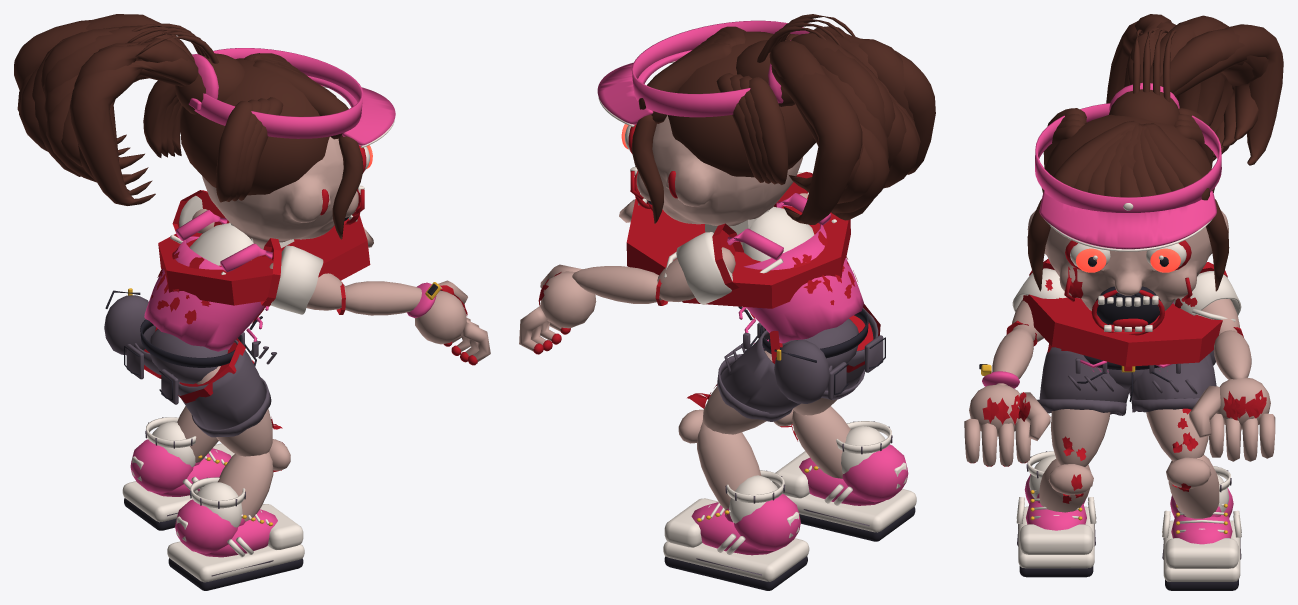
File: inf.jogger.glb
3 views of the same model, side by side, from view 1: azimuth 30°, elevation 25°; view 2: azimuth 150°, elevation 25°; view 3: azimuth 270°, elevation 25° (orthographic). The views are drawn at different scales.
Visible parts, largest first — view 1: head, footR, torso, stump_head, footL, hip, legR, armR, handR, foreArmR, shinR, shinL (+2 smaller); view 2: head, footL, footR, torso, stump_head, hip, legL, handL, shinL, armL, shinR, foreArmL (+2 smaller); view 3: head, stump_head, legR, footL, footR, legL, handL, handR, shinL, armL, shinR, foreArmR (+3 smaller).
Boxes of the visible parts, x1,y1,x2,y2 form: head: [14, 14, 395, 249]; footR: [167, 477, 304, 590]; torso: [144, 210, 272, 351]; stump_head: [158, 215, 370, 305]; footL: [122, 417, 234, 530]; hip: [104, 288, 258, 404]; legR: [172, 340, 282, 456]; armR: [269, 245, 346, 314]; handR: [414, 280, 490, 365]; foreArmR: [345, 281, 440, 317]; shinR: [218, 439, 290, 521]; shinL: [177, 406, 218, 462]; head: [597, 14, 935, 244]; footL: [663, 470, 809, 590]; footR: [772, 421, 916, 541]; torso: [727, 193, 863, 343]; stump_head: [626, 195, 850, 308]; hip: [743, 309, 885, 403]; legL: [687, 330, 832, 434]; handL: [519, 264, 596, 354]; shinL: [678, 409, 761, 510]; armL: [657, 232, 735, 304]; shinR: [773, 406, 850, 478]; foreArmL: [572, 266, 662, 303]; head: [1027, 14, 1283, 335]; stump_head: [1023, 294, 1222, 366]; legR: [1037, 347, 1128, 466]; footL: [1162, 466, 1241, 590]; footR: [1016, 451, 1096, 577]; legL: [1128, 353, 1216, 461]; handL: [1189, 377, 1275, 461]; handR: [964, 384, 1050, 466]; shinL: [1166, 455, 1219, 518]; armL: [1173, 271, 1241, 334]; shinR: [1039, 459, 1093, 512]; foreArmR: [979, 328, 1033, 388].
Bounding box in the file's own units: 1.29 × 1.8 × 1.03.
